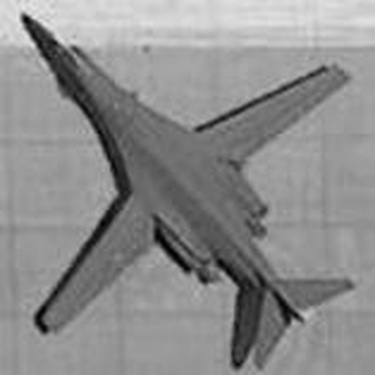airplane: (8, 7, 358, 371)
